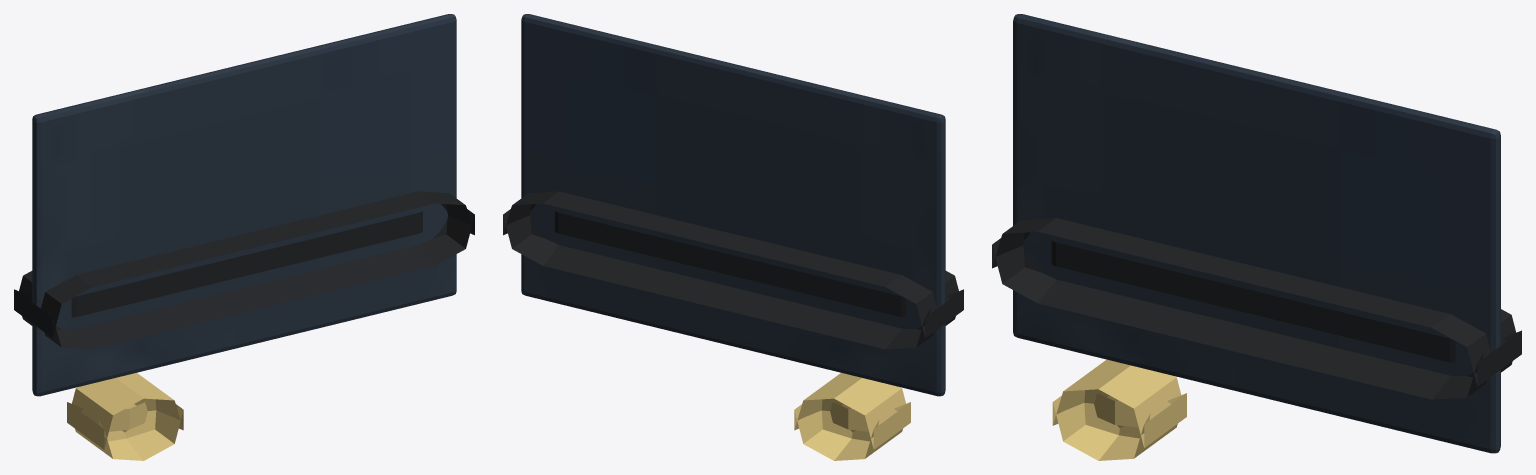
File: item_keycard.glb
The picture shows the model from 3 angles, left to right: view 1: azimuth 30°, elevation 25°; view 2: azimuth 150°, elevation 25°; view 3: azimuth 330°, elevation 25°; orthographic projection. The views are drawn at different scales.
Visible parts, largest first — view 1: body; view 2: body; view 3: body.
Part boxes in pixels (<box>): body: <box>14,14,474,460</box>; body: <box>503,14,963,460</box>; body: <box>992,14,1521,460</box>.
Bounding box in the file's own units: 0.085 × 0.068 × 0.0135.
Materials: 3 (1 with a texture image).
